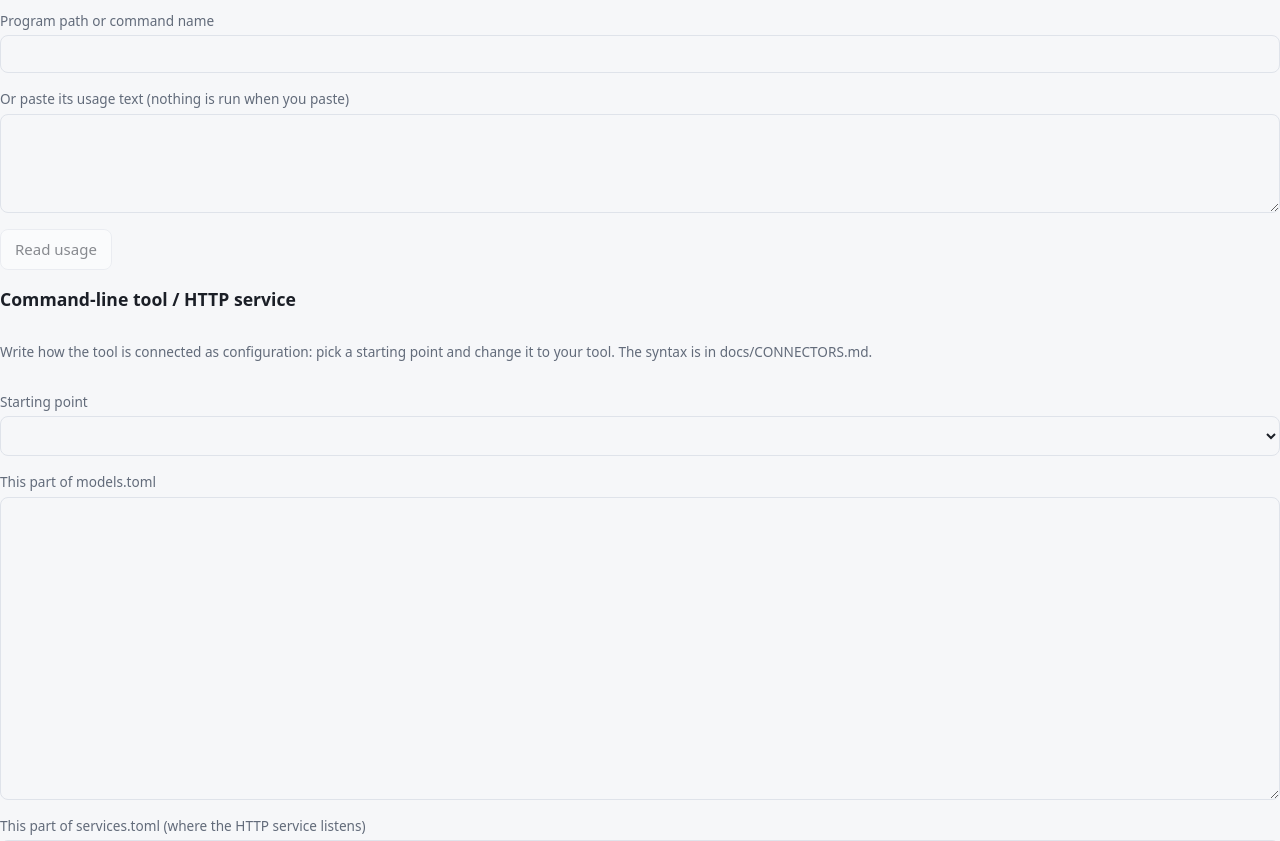
Test: tools page › shows what is wrong and does not save
(page scrolled)
Select "Command-line tool" in the dropdown labelled "Starting point" at point(640, 436), box [0,416,1279,456]
(page scrolled)
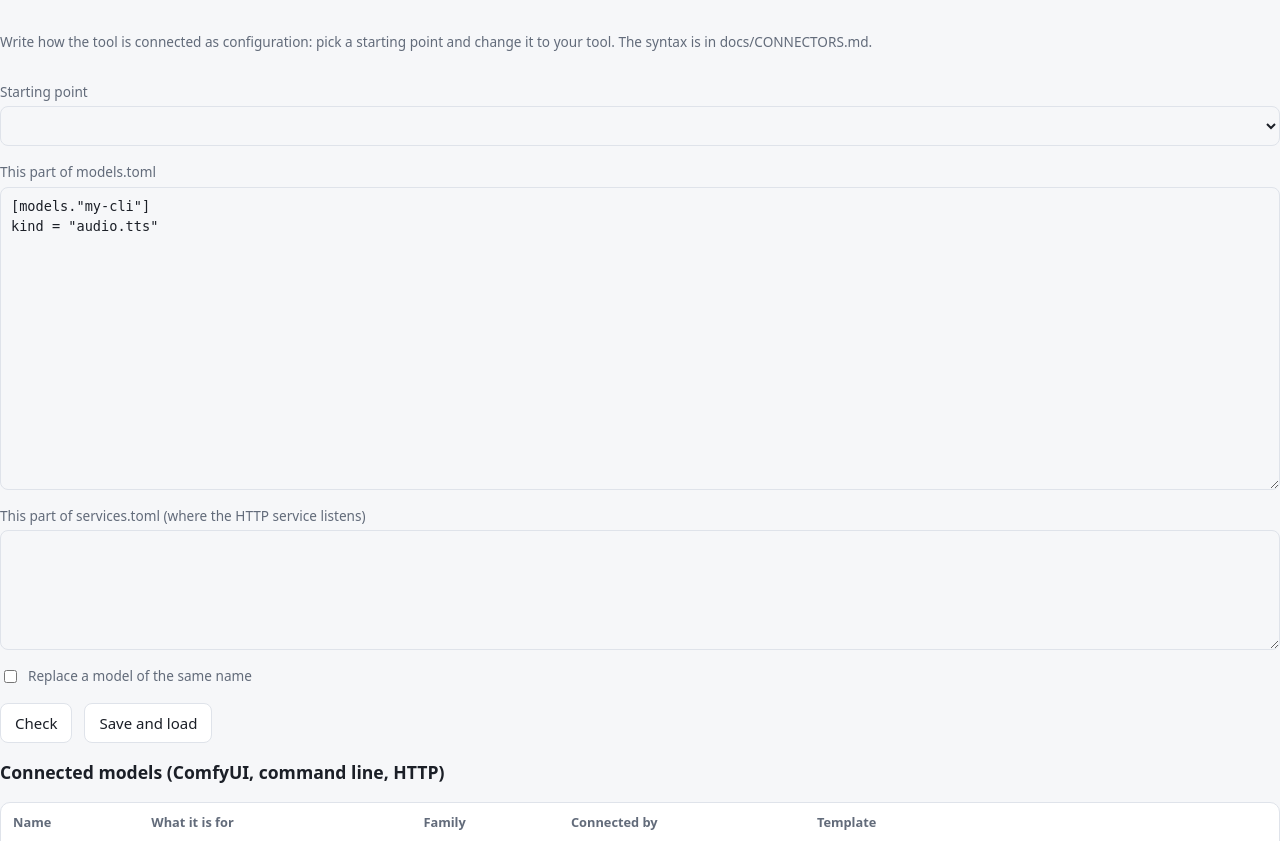
Expected: the text box labelled "This part of models.toml" is not empty, [0,187,1279,490]
Click the button "Save and load" at point(148, 723), box [84,703,212,743]
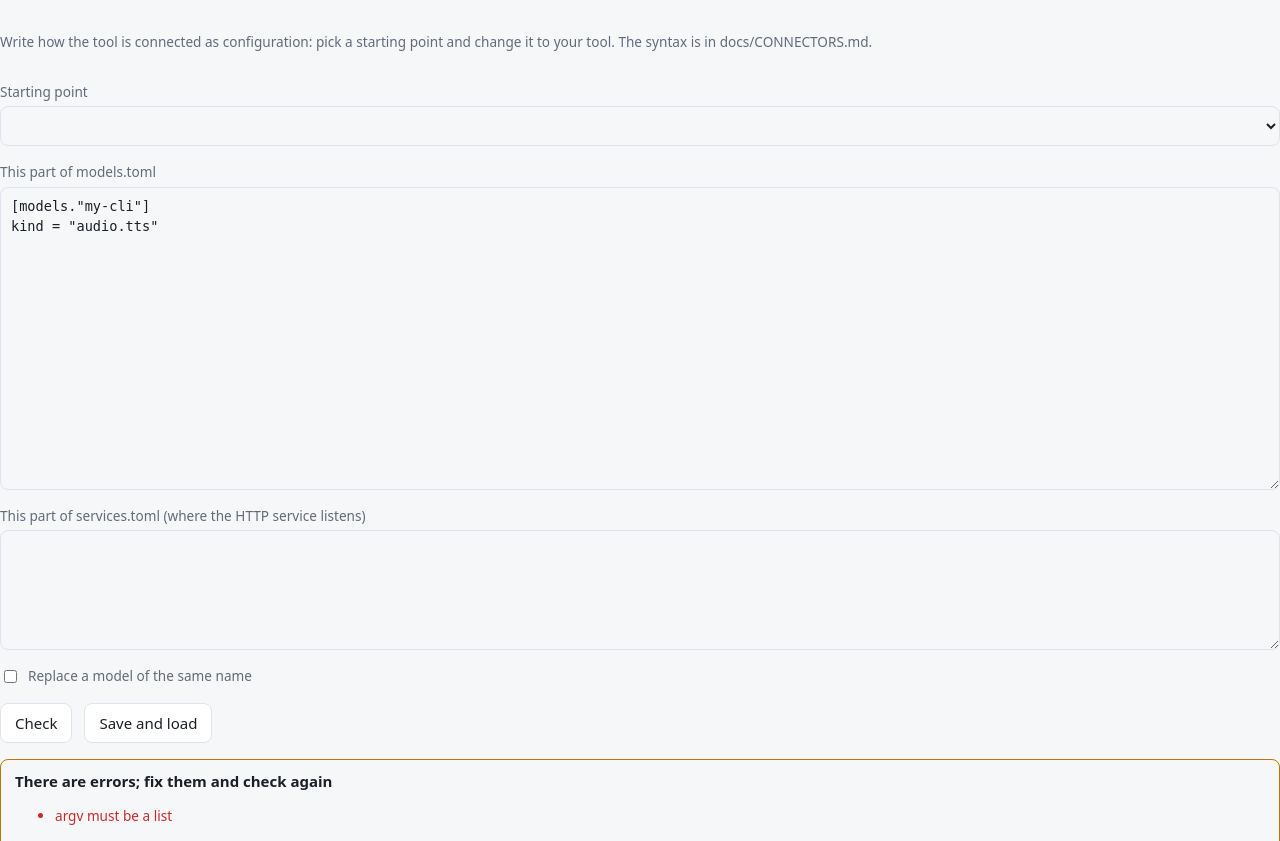
Expected: the list item "argv must be a list" is shown, [55,806,172,825]
Expected: the text "There are errors; fix them and check again" is shown, [15,771,332,791]
